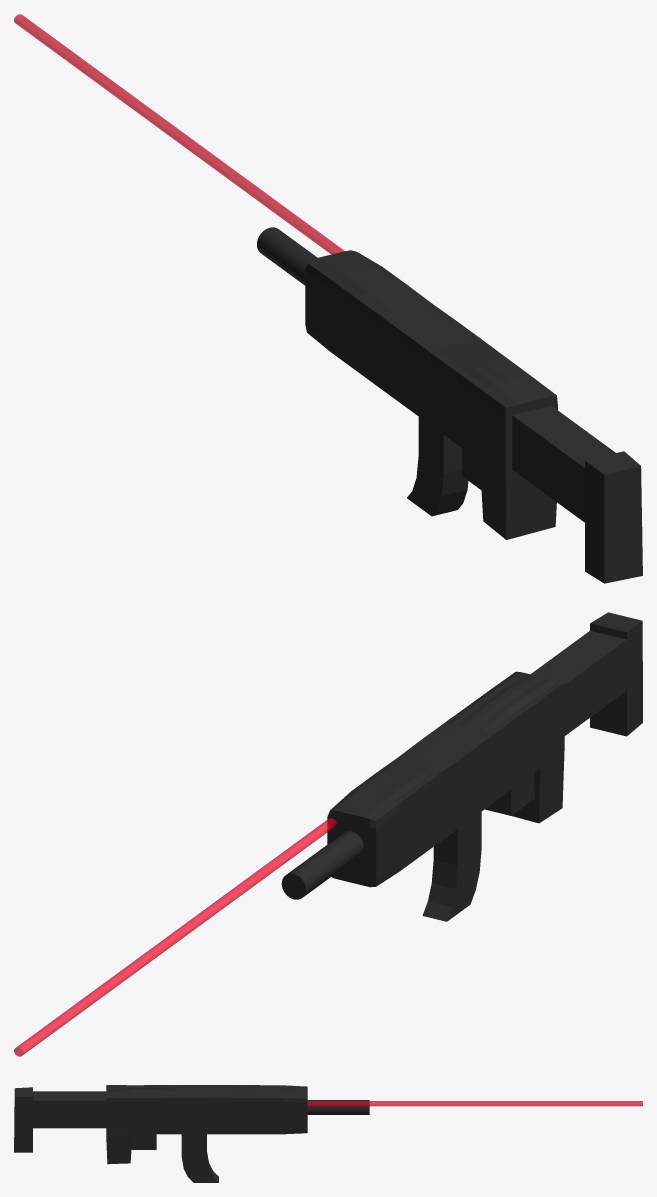
The model's file is finalRifle.fbx.
The picture shows the model from 3 angles, top to bottom: view 1: azimuth 30°, elevation 25°; view 2: azimuth 150°, elevation 25°; view 3: azimuth 270°, elevation 25°; orthographic projection. The views are drawn at different scales.
Parts seen in each view (by area): view 1: Cube, Cube.003, Cube.005, Cube.001, Cube.006, Cube.004; view 2: Cube, Cube.003, Cube.005, Cube.006, Cube.004, Cube.001, Cube.002; view 3: Cube, Cube.003, Cube.005, Cube.006, Cube.004, Cube.001, Cube.002.
Boxes of the visible parts, box(x1,y1,x2,y2) form: Cube: box(305, 250, 557, 479); Cube.003: box(512, 405, 642, 583); Cube.005: box(14, 14, 344, 254); Cube.001: box(479, 461, 556, 539); Cube.006: box(407, 417, 468, 516); Cube.004: box(257, 227, 317, 285); Cube: box(327, 671, 564, 887); Cube.003: box(531, 612, 642, 736); Cube.005: box(14, 818, 336, 1056); Cube.006: box(422, 812, 481, 921); Cube.004: box(281, 831, 363, 899); Cube.001: box(512, 751, 564, 823); Cube.002: box(485, 773, 534, 815); Cube: box(106, 1085, 307, 1134); Cube.003: box(14, 1087, 106, 1152); Cube.005: box(307, 1101, 642, 1106); Cube.006: box(181, 1134, 218, 1182); Cube.004: box(307, 1100, 369, 1114); Cube.001: box(106, 1134, 132, 1164); Cube.002: box(131, 1134, 156, 1149).
Bounding box in the file's own units: 30.54 × 99.21 × 624.
